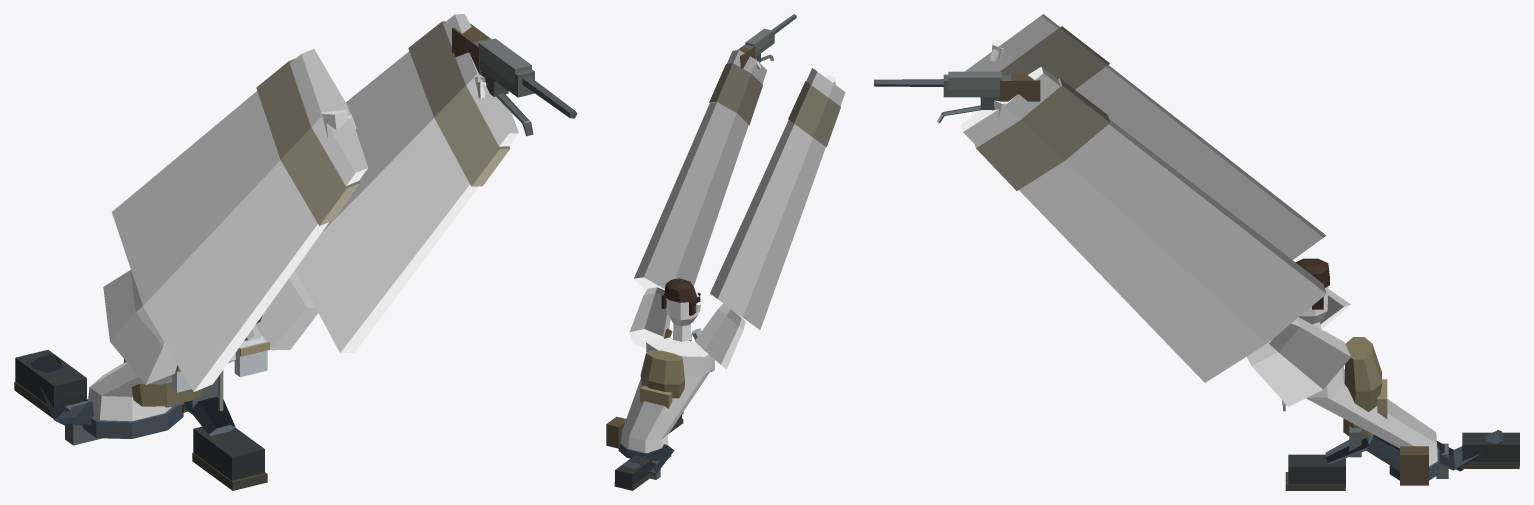
Rendered from walker.glb.
The picture shows the model from 3 angles, left to right: view 1: azimuth 30°, elevation 25°; view 2: azimuth 150°, elevation 25°; view 3: azimuth 270°, elevation 25°; orthographic projection. The views are drawn at different scales.
Visible parts, largest first — view 1: survivor; view 2: survivor; view 3: survivor.
Part boxes in pixels (box(x1,y1,x2,y2)): survivor: box(14, 14, 577, 490); survivor: box(606, 14, 845, 490); survivor: box(874, 14, 1519, 490).
Bounding box in the file's own units: 0.6754 × 2.17 × 2.86.
